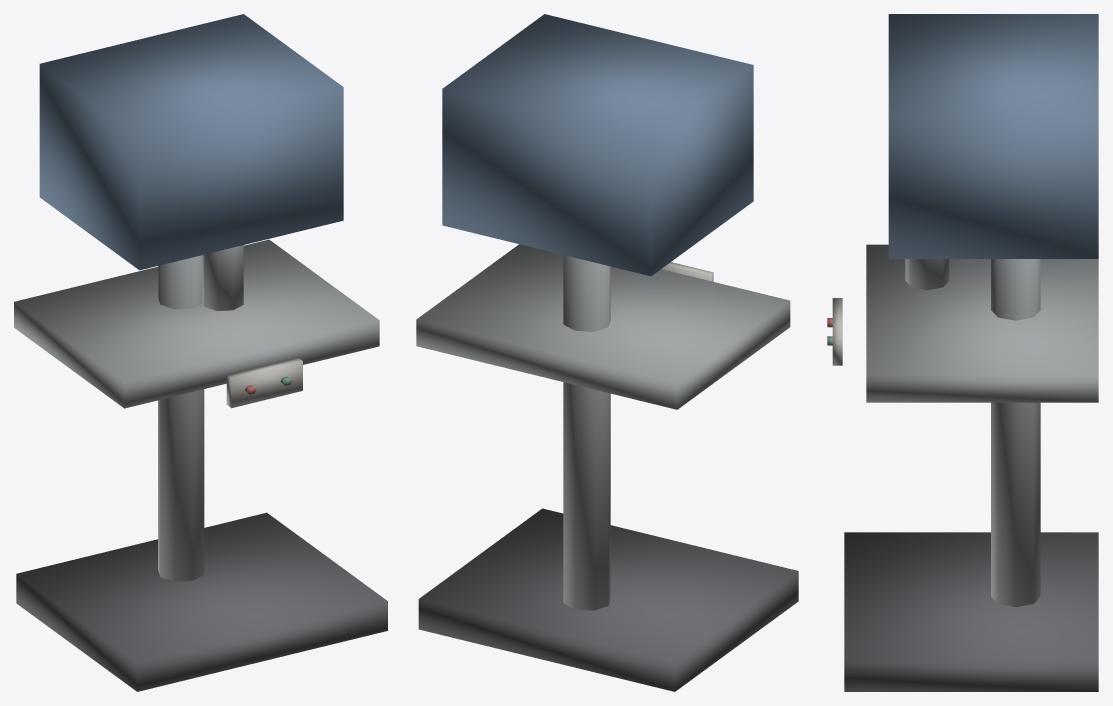
Rendered from drill_press__squat.glb.
The picture shows the model from 3 angles, left to right: view 1: azimuth 30°, elevation 25°; view 2: azimuth 150°, elevation 25°; view 3: azimuth 270°, elevation 25°; orthographic projection. The views are drawn at different scales.
Visible parts, largest first — view 1: world; view 2: world; view 3: world.
Part boxes in pixels (bbox=[...]): world: bbox=[14, 14, 387, 691]; world: bbox=[416, 14, 798, 691]; world: bbox=[827, 14, 1098, 691].
Bounding box in the file's own units: 0.605 × 1.21 × 0.5303.
